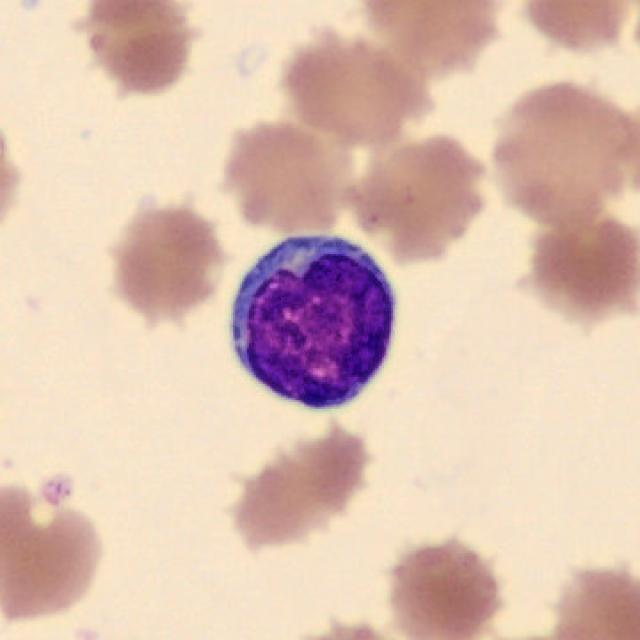Linfocito: (231, 236, 395, 411)
